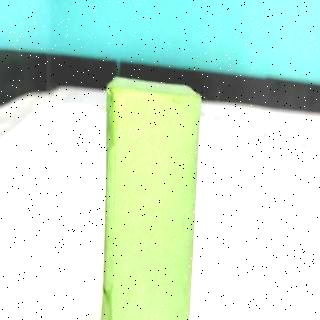greenbox: (106, 73, 202, 320)
